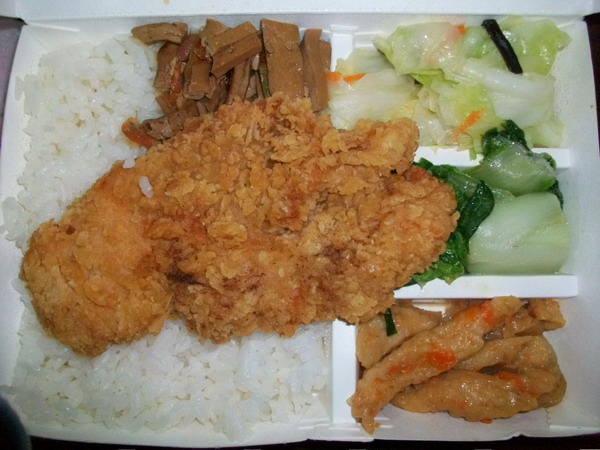fried_chicken: (149, 117, 393, 329)
rice: (16, 336, 331, 428), (33, 50, 150, 156)
